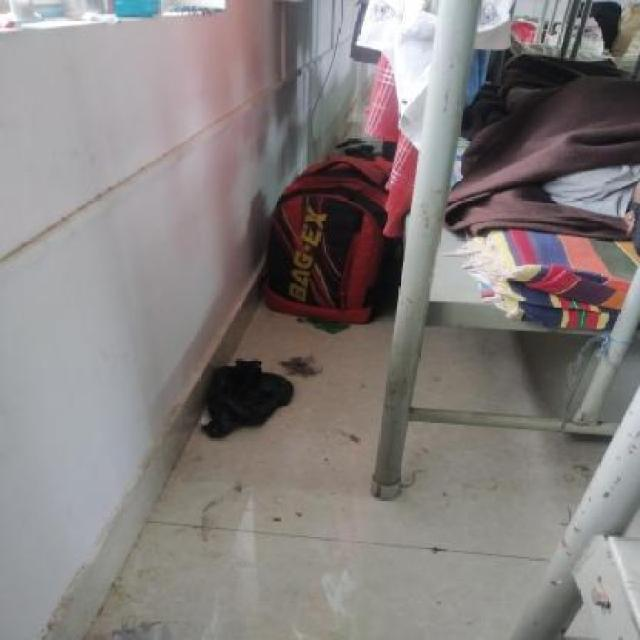backpack: (259, 142, 403, 330)
